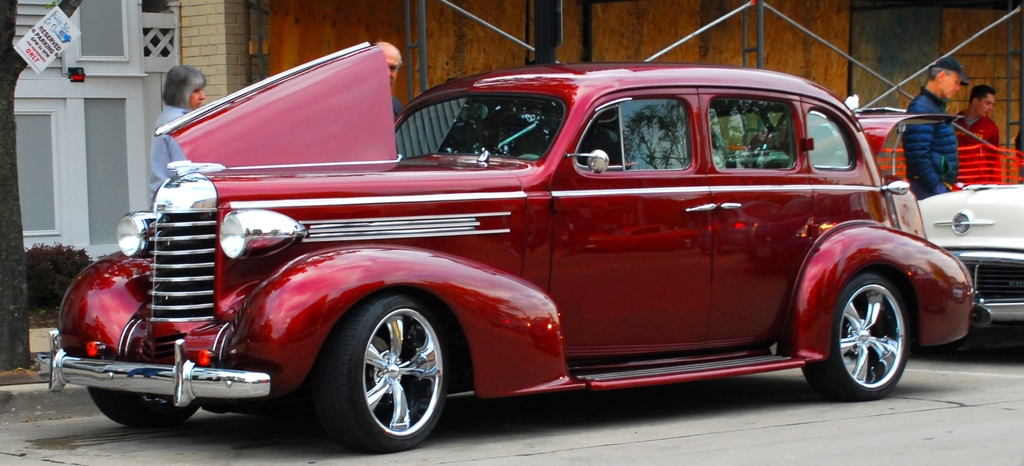cars: (40, 33, 981, 455), (917, 180, 1023, 339)
